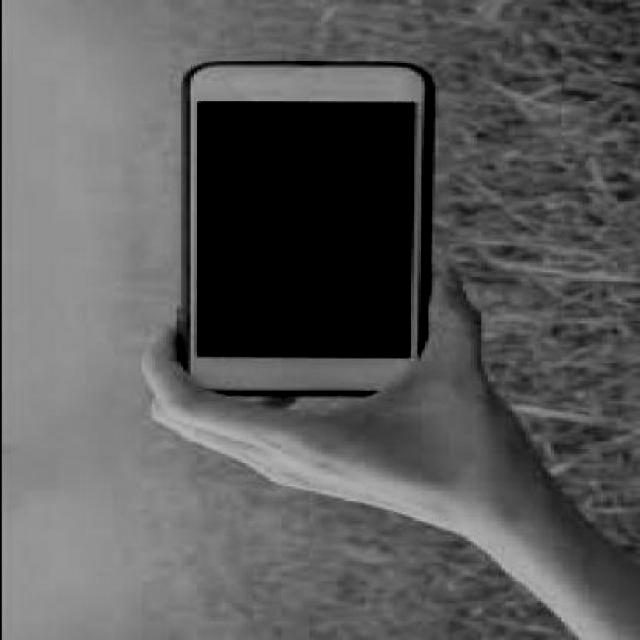fake: (178, 60, 427, 398)
